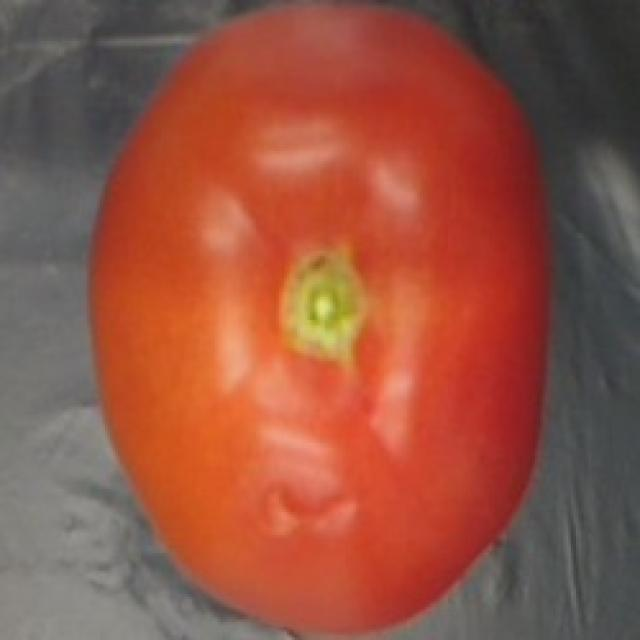ripe tomato: (78, 0, 572, 640)
